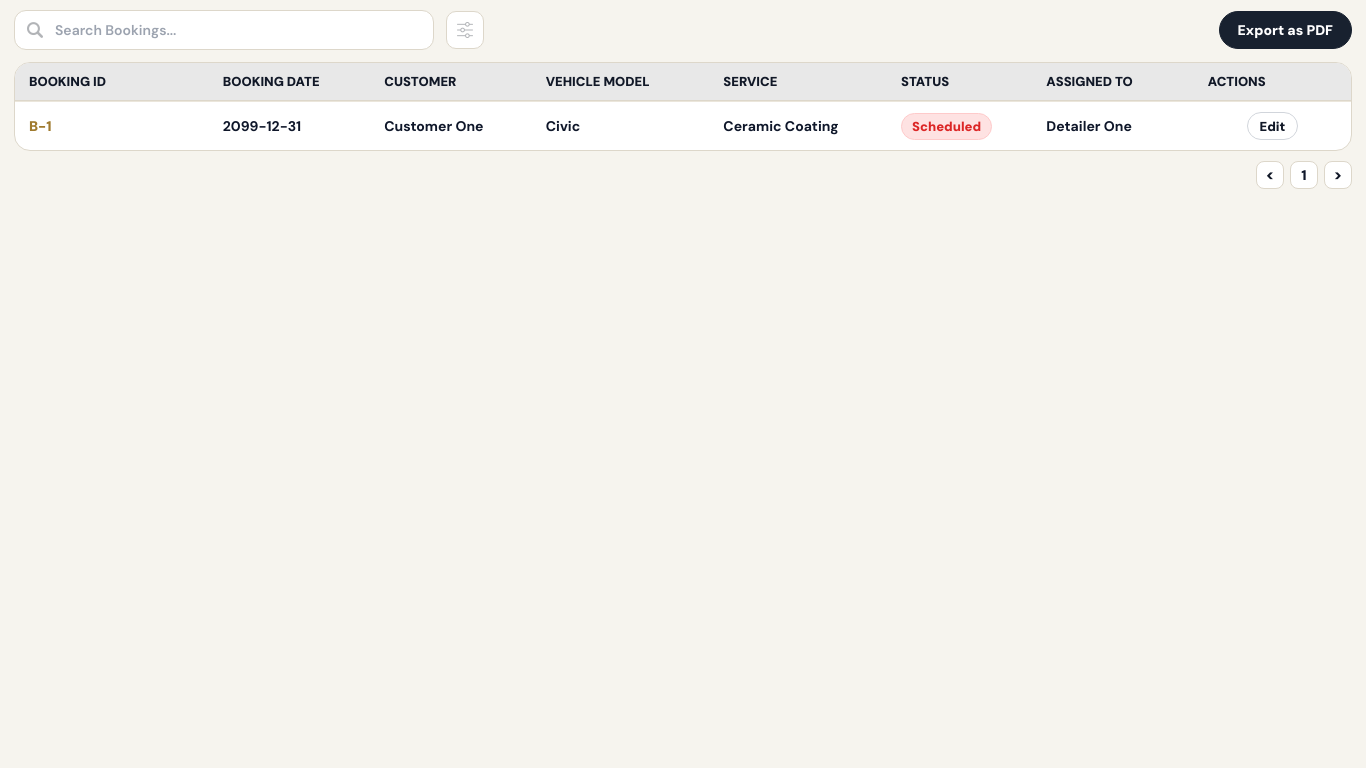
Test: Admin Service Tracking assignment editing › blocks blank assigned detailer changes with inline validation
Click the button "Edit" at (1272, 126), box [1246,112,1298,140]
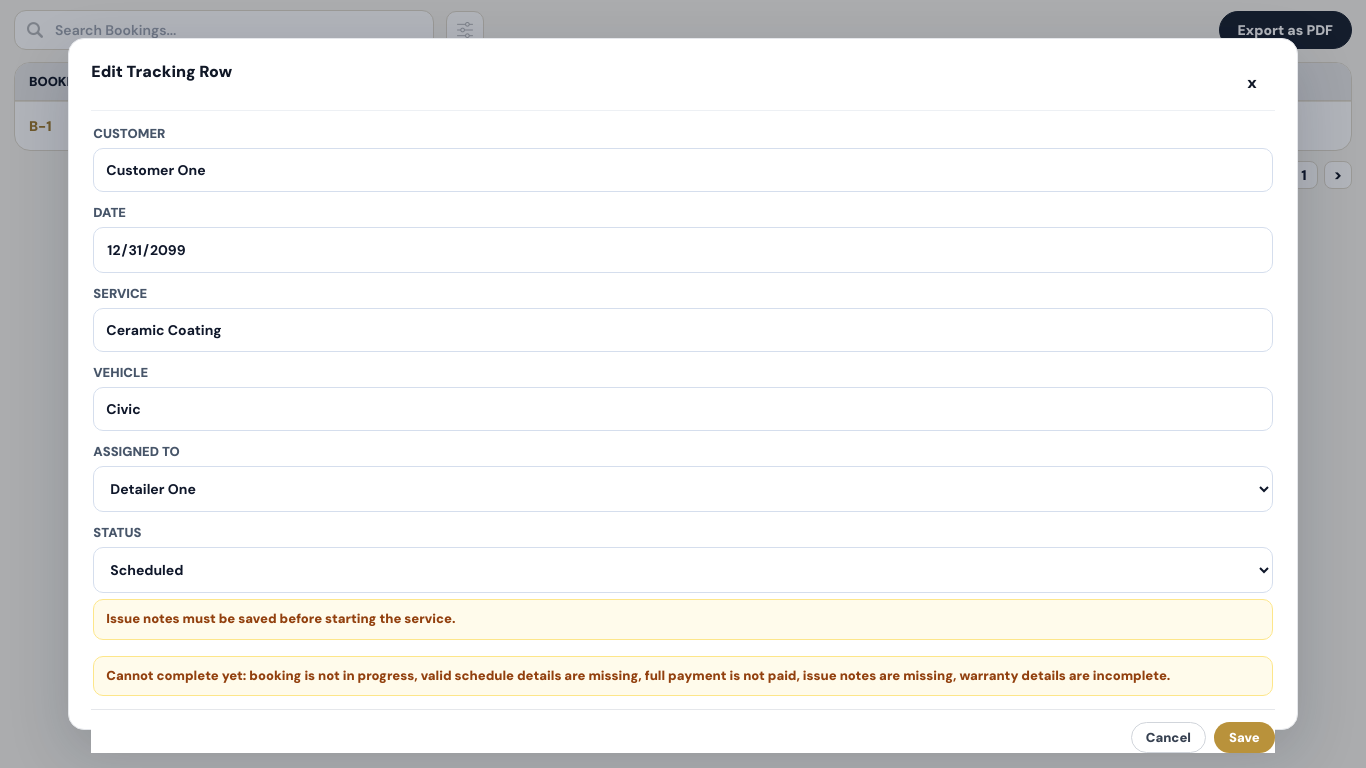
Select "Select detailer" in the dropdown labelled "Assigned To" at (683, 489), box [93,466,1273,512]
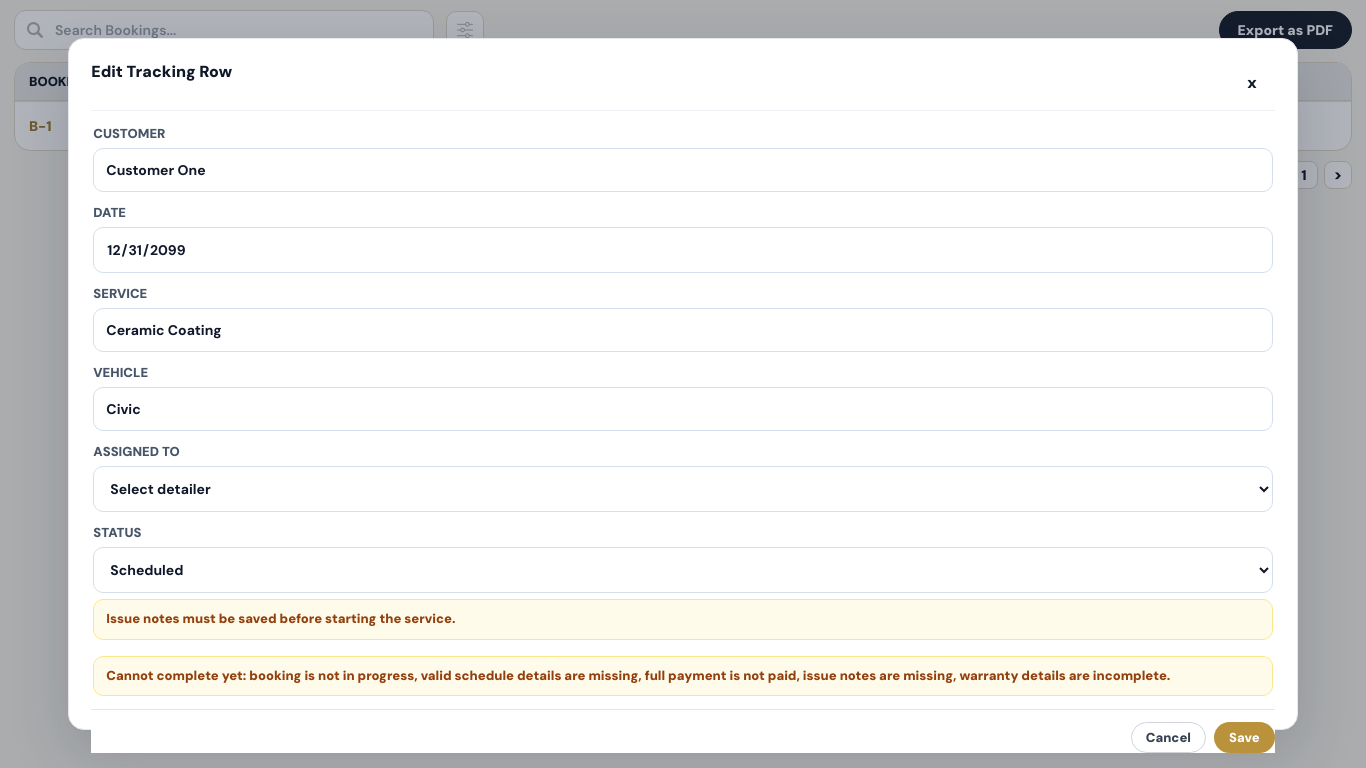
Click the button "Save" at (1244, 737), box [1214,722,1275,753]
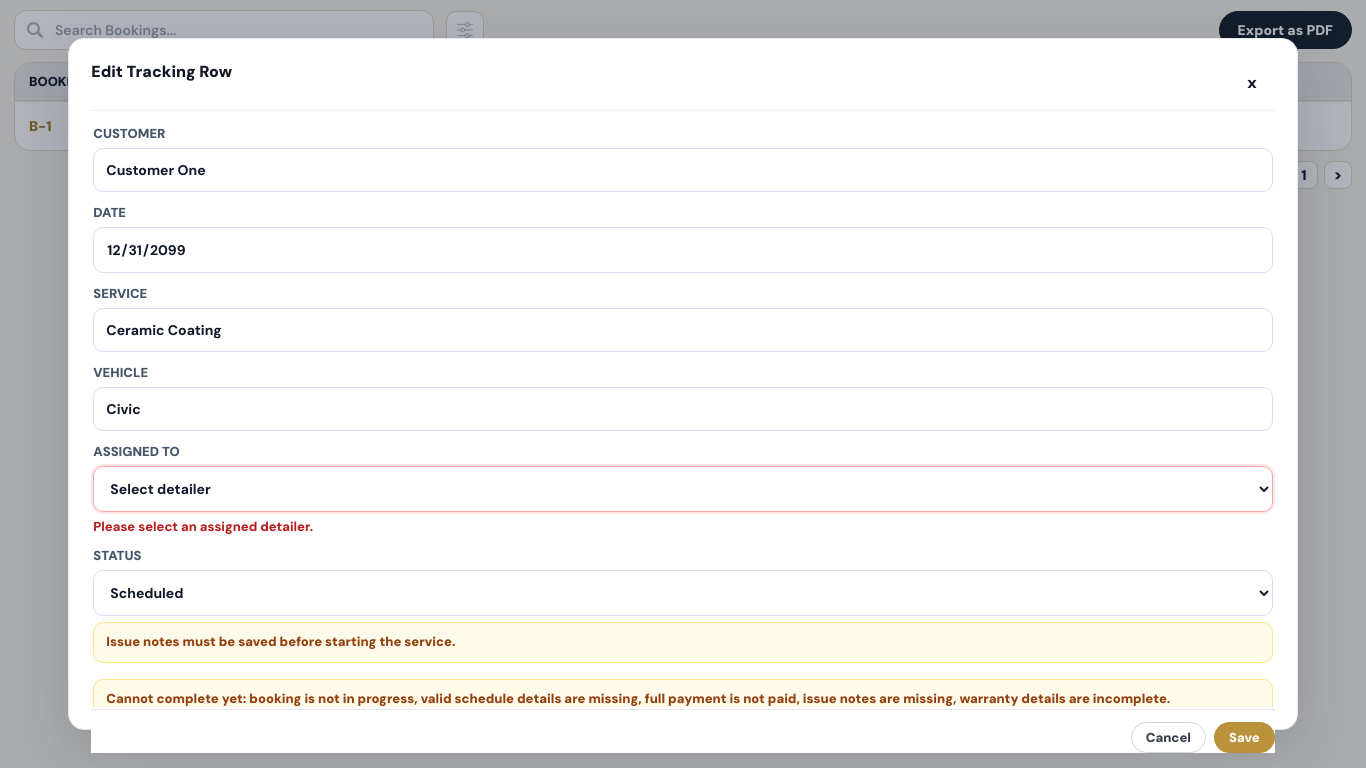
Result: the text "Edit Tracking Row" is shown at [91,61,232,82]
Result: the text "Please select an assigned detailer." is shown at [93,518,313,535]
